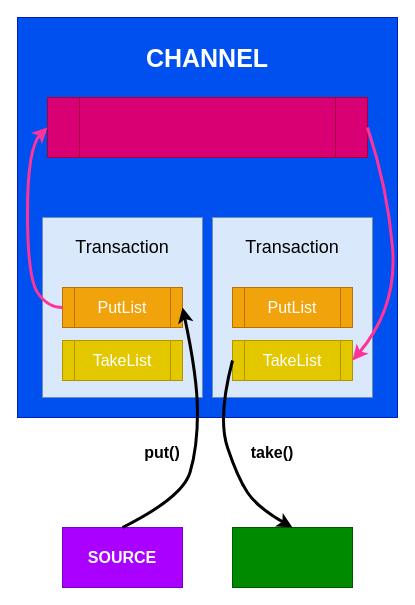
Some shapes in this 415 by 605 pixel diagram are drawn without their labels. Here are the shapes that lost their labels. From the top down, the centre of each, then its label:
At point 207,127: "存储队列".
At point 292,557: "SINK".
